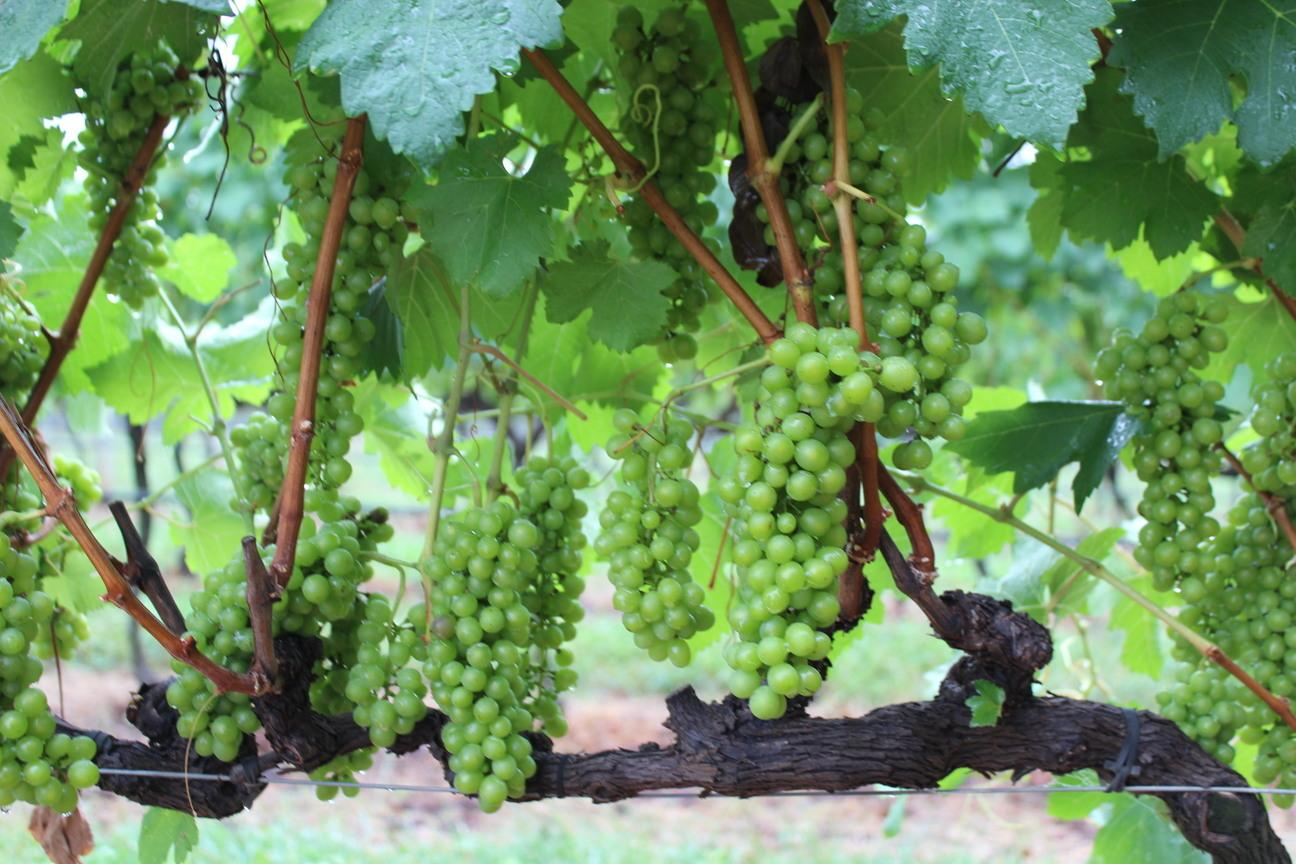leaf: (294, 0, 560, 167), (833, 0, 1111, 147), (1055, 70, 1216, 256), (1109, 0, 1295, 160), (410, 136, 569, 297), (846, 24, 983, 202), (945, 400, 1138, 508), (58, 0, 216, 95), (541, 241, 677, 351), (168, 472, 245, 572), (157, 233, 236, 302), (0, 0, 67, 72), (138, 807, 197, 862), (0, 201, 23, 257)
